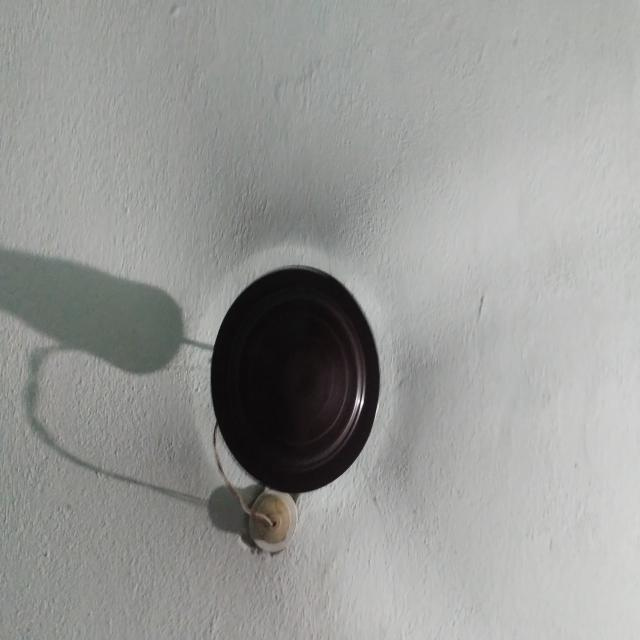fan_on: (16, 16, 597, 640)
